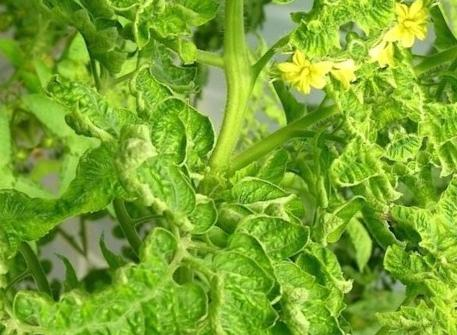Tomato leaf yellow virus: (88, 59, 254, 257), (270, 61, 414, 232), (211, 194, 369, 335), (92, 228, 230, 335), (157, 247, 313, 335), (41, 127, 155, 242), (376, 187, 457, 293), (269, 0, 357, 72), (221, 155, 298, 236), (91, 0, 177, 23), (246, 0, 324, 21)
